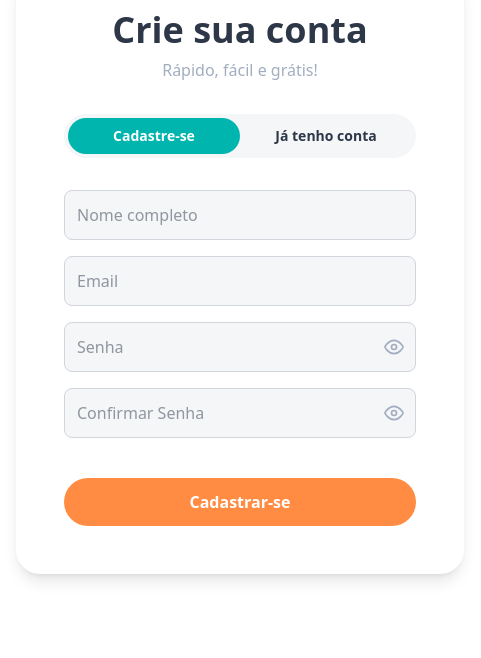
Scenario: LoginPage › exibe mensagem de erro ao falhar login
The image size is (481, 658).
Click the button "Já tenho conta" at point(326, 136), box [240, 118, 412, 154]
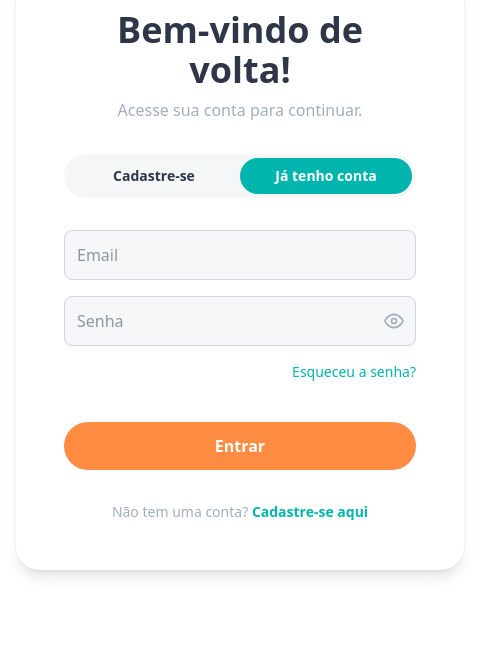
Type "fail@email.com" into the field with placeholder "Email" at point(240, 255), box [64, 230, 416, 280]
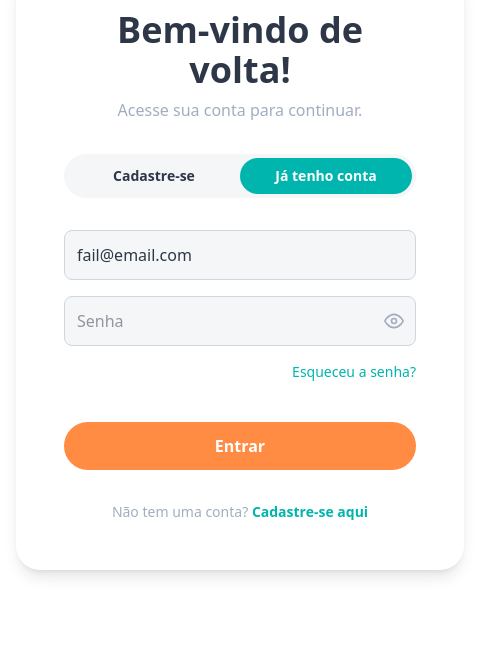
Type "123456" into the password field with placeholder "Senha" at point(240, 321), box [64, 296, 416, 346]
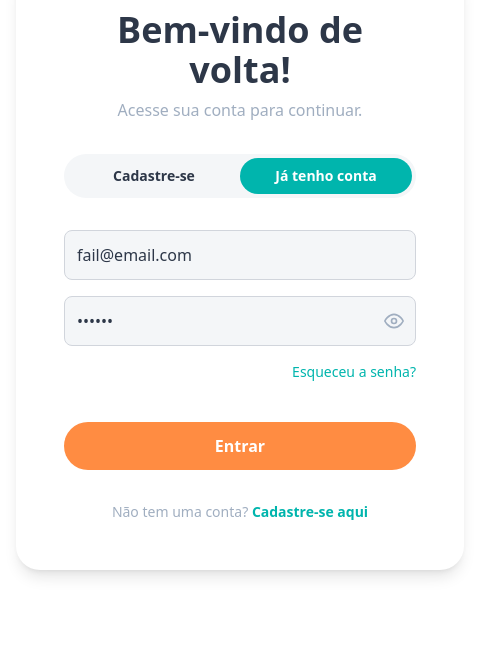
Click the button "Entrar" at point(240, 446), box [64, 422, 416, 470]
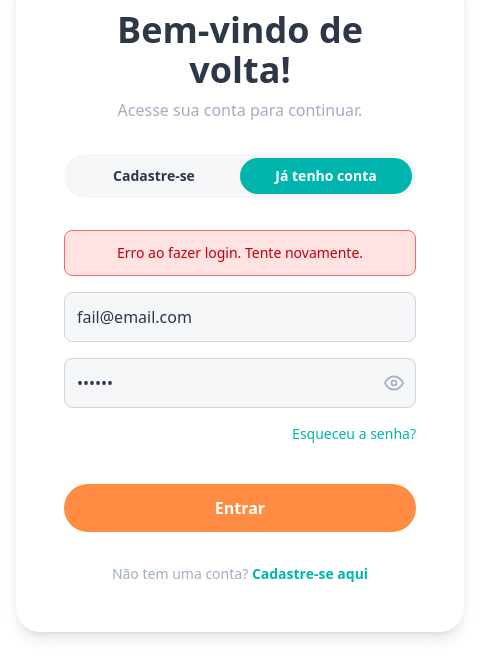
Result: the text "Erro ao fazer login. Tente novamente." is shown at [117, 243, 363, 262]
